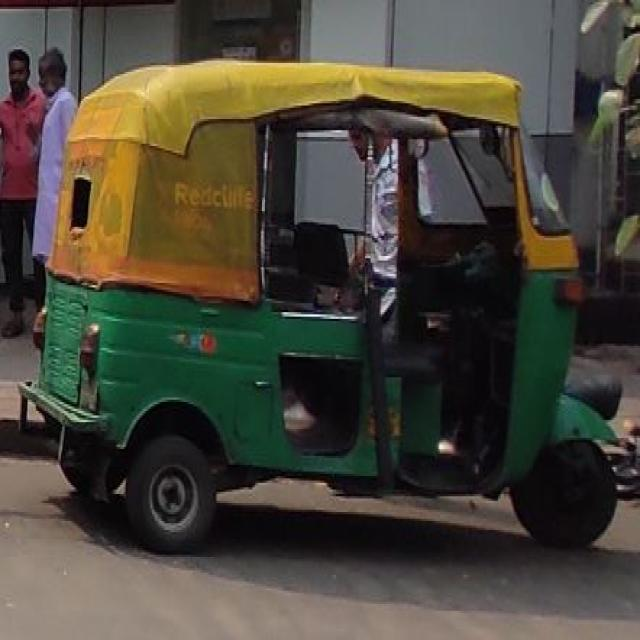autorickshaw: (31, 56, 628, 568)
